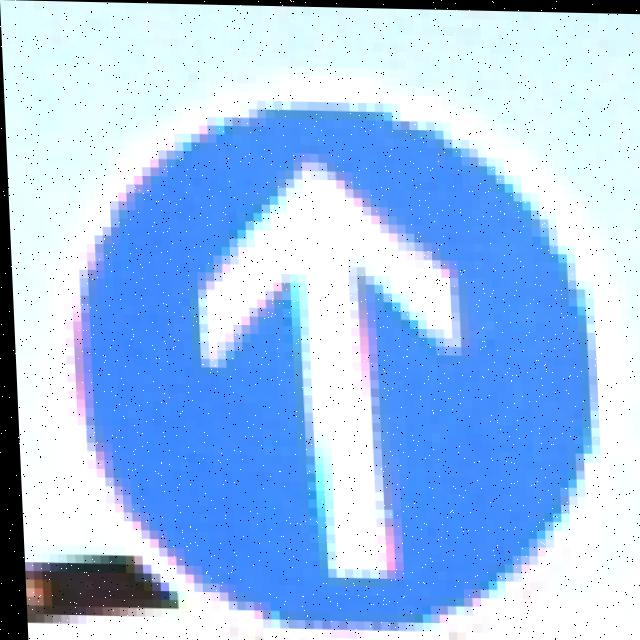compulsory_ahead: (88, 80, 640, 640)
